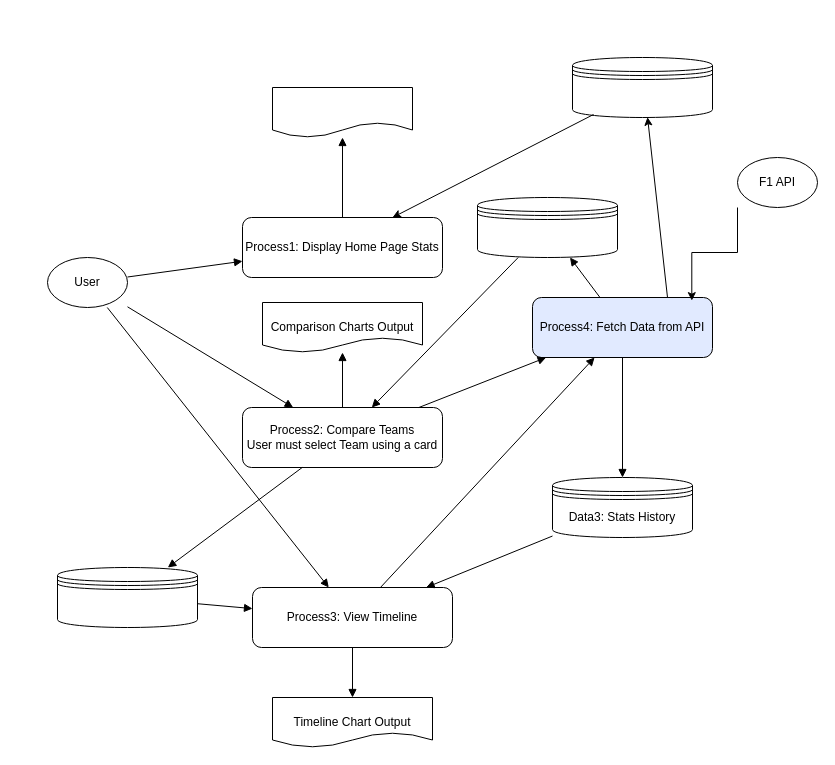
Image size: 835x765. Some labels were removed from this diagram. The shapes that lost their labels are listed below. From the top down, each one's centre as x and y in pixels, then its label:
At (642,87): "Data1: Team Preview Data".
At (342,112): "Bar Graph Output".
At (547,227): "Data4: Team Data".
At (127,597): "Data2: User Selections".
